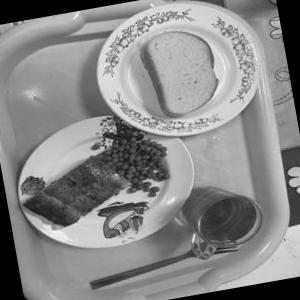bread: (129, 15, 233, 124)
casserole: (18, 122, 172, 232)
tea: (173, 167, 271, 268)
